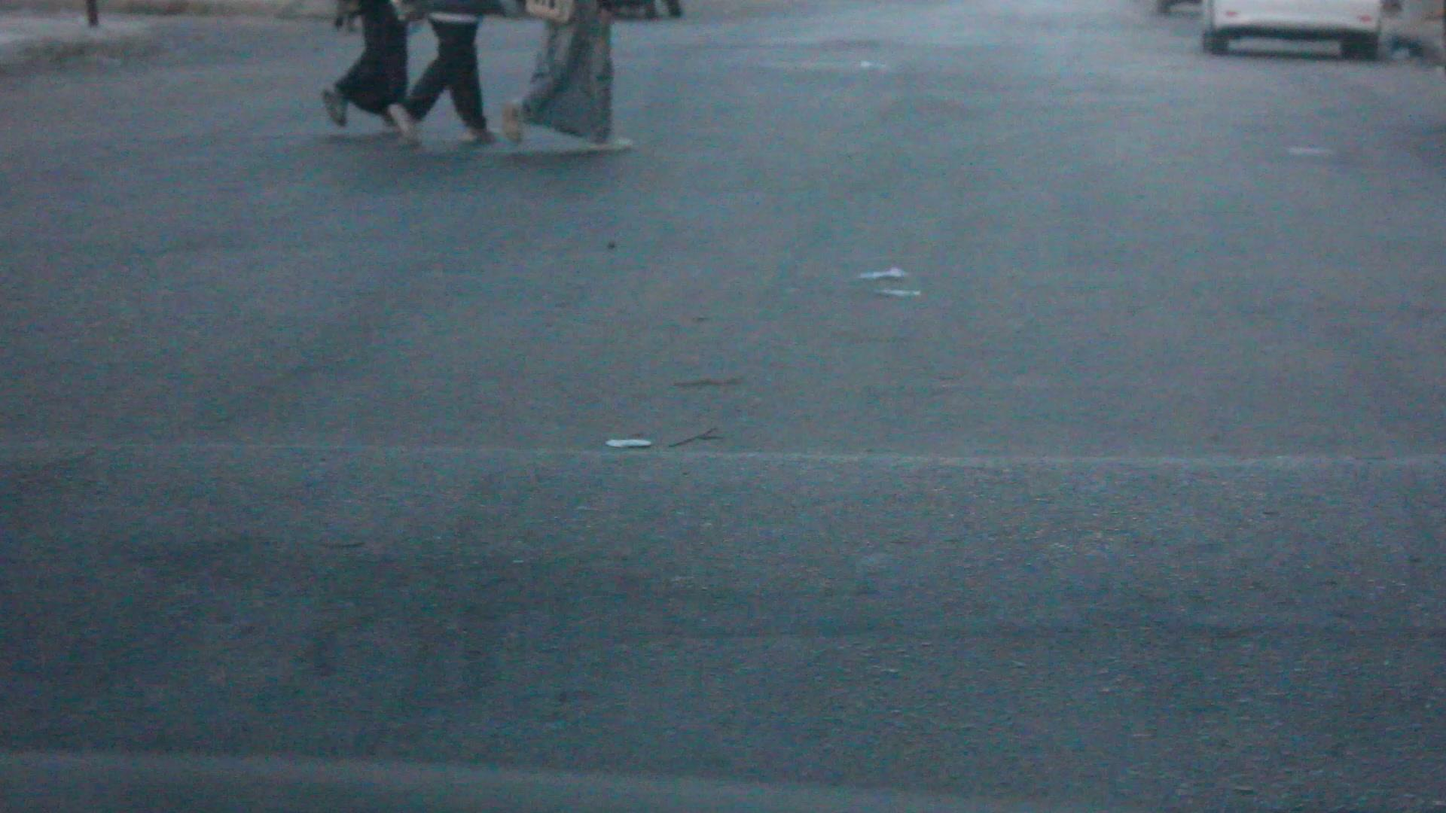Bump: (2, 422, 1446, 813)
